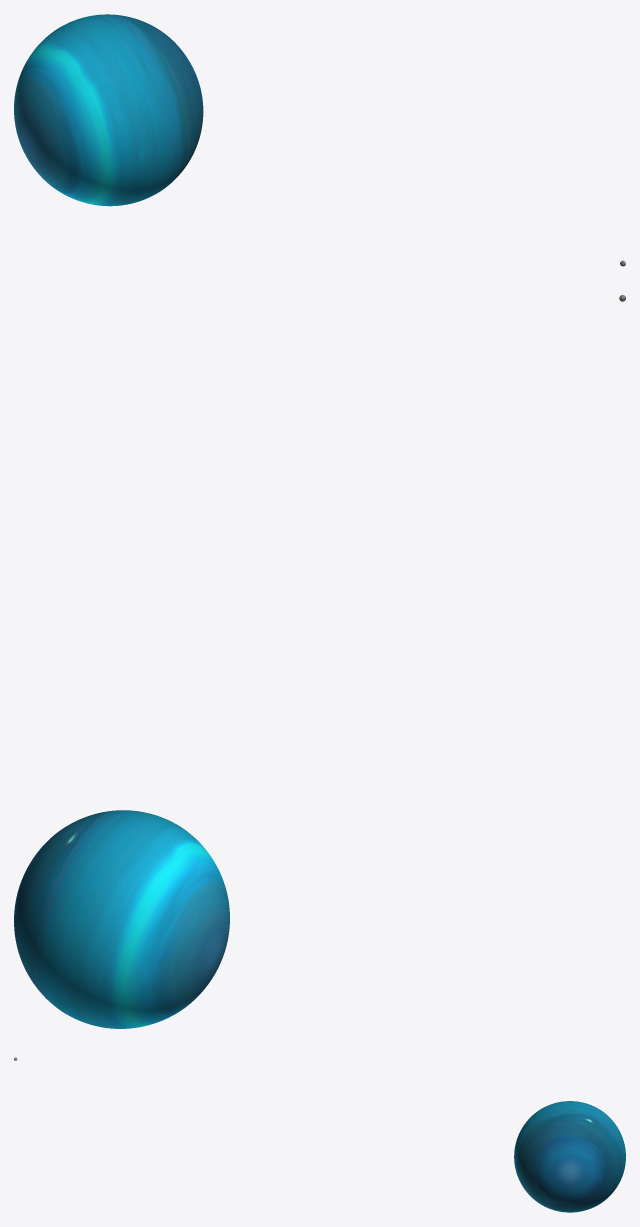
File: uranus.fbx
The picture shows the model from 3 angles, top to bottom: view 1: azimuth 30°, elevation 25°; view 2: azimuth 150°, elevation 25°; view 3: azimuth 270°, elevation 25°; orthographic projection. The views are drawn at different scales.
Visible parts, largest first — view 1: uranus1_A; view 2: uranus1_A; view 3: uranus1_A.
Boxes of the visible parts, <box> form: uranus1_A: <box>14,14,203,206</box>; uranus1_A: <box>14,810,229,1028</box>; uranus1_A: <box>514,1101,625,1212</box>.
Size of the model in its own units: 49980 by 81021 by 279642.
